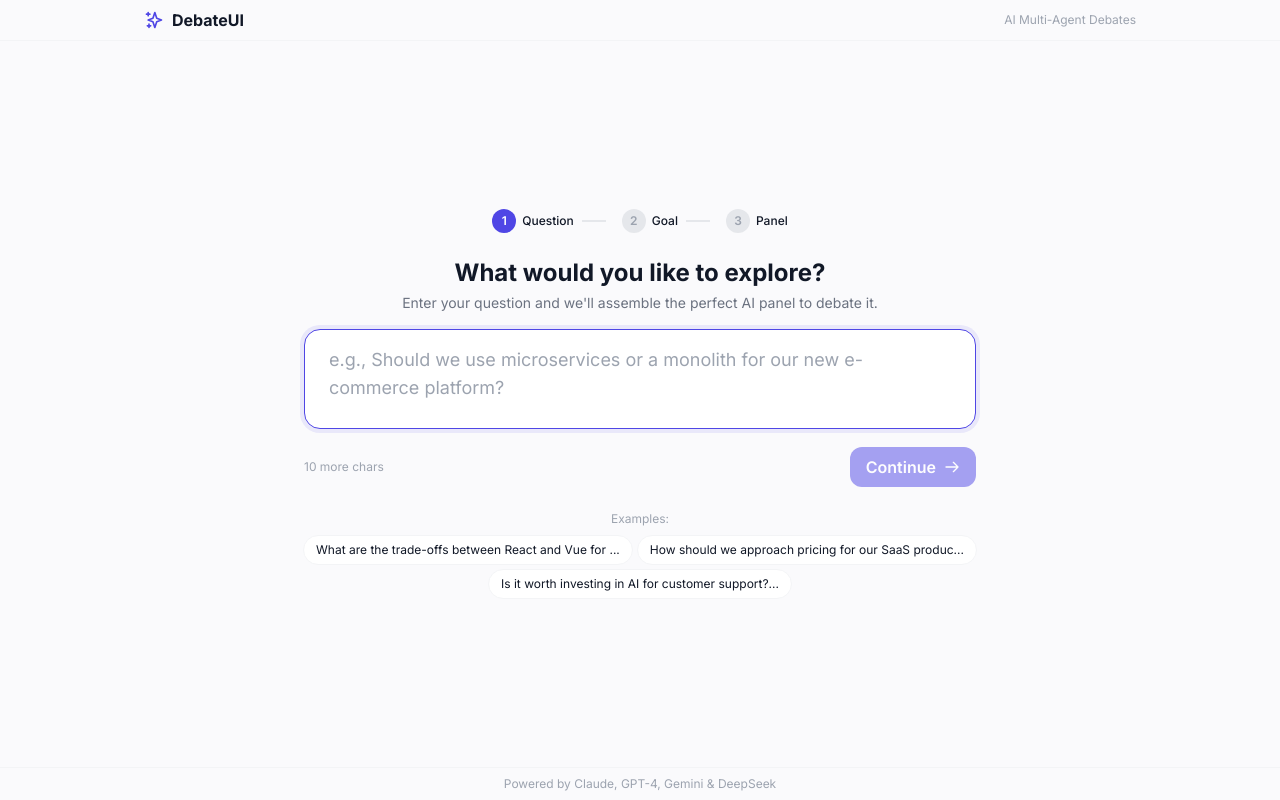
Test: App › Goal Step › advances to goal step after entering question
Type "This is a test question that is long enough" into the text box with placeholder "microservices or a monolith" at [640, 379], box [304,329,976,429]
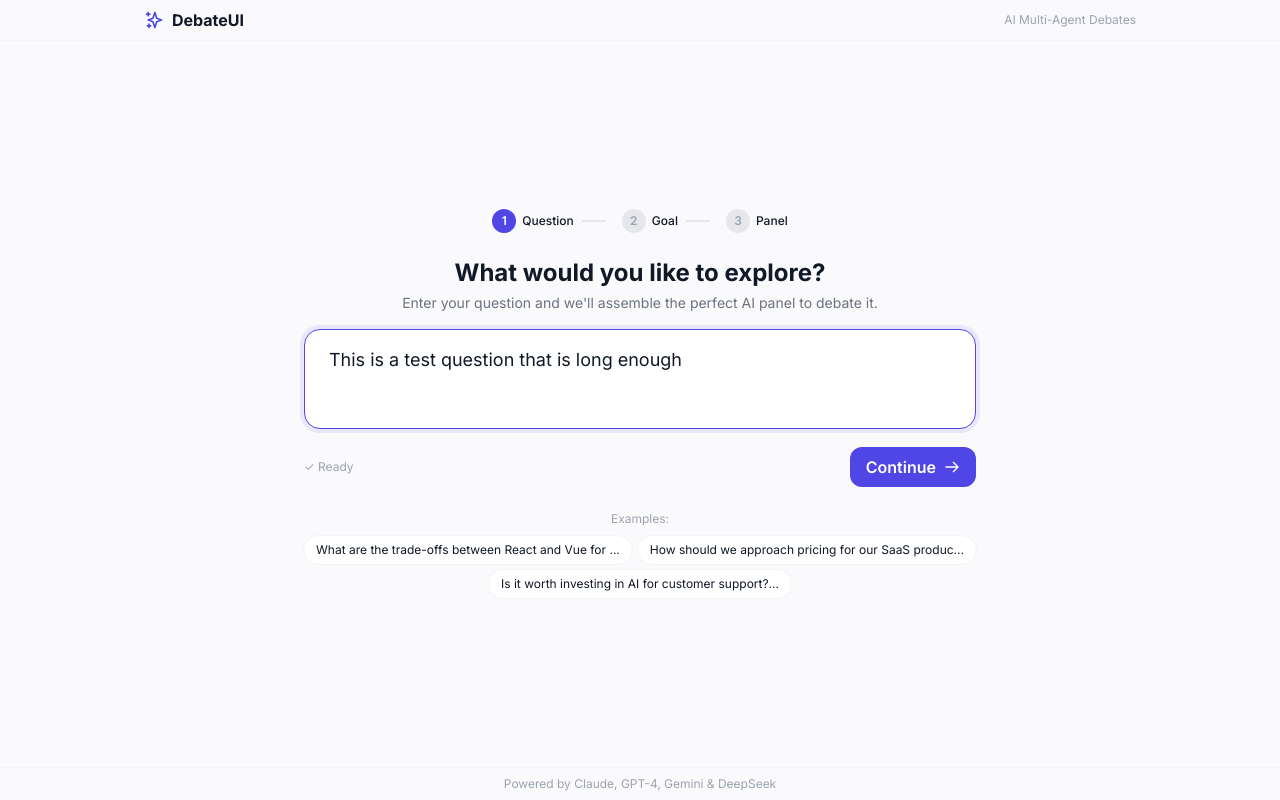
Click the button "Continue" at [913, 467], box [850,447,976,487]
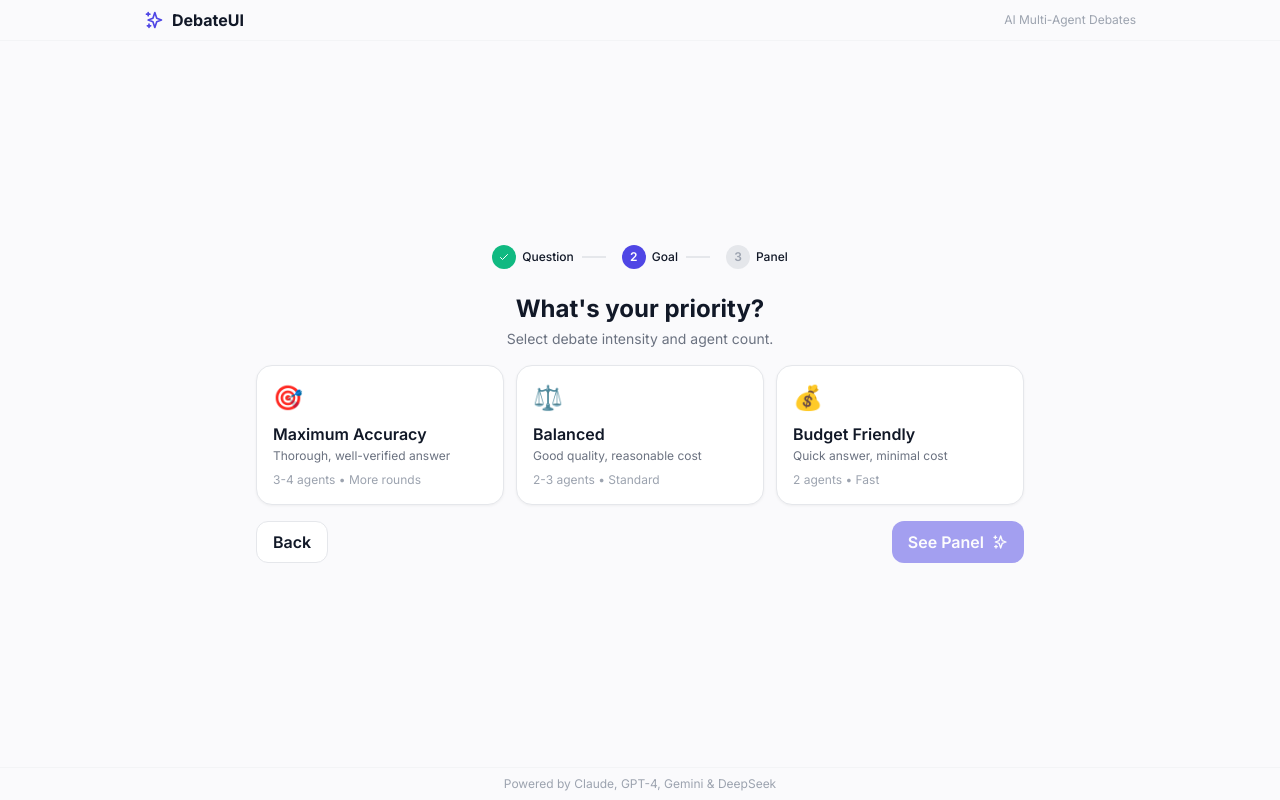
Result: the heading "What's your priority?" is shown at [516,294,764,323]
